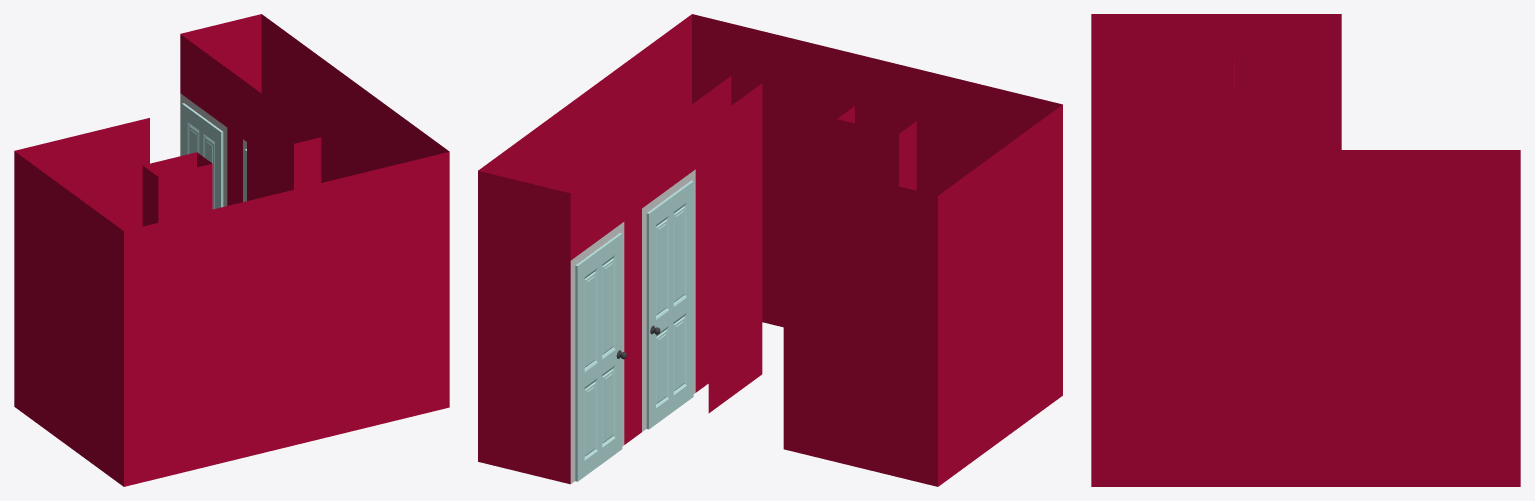
The model's file is main hallway-all fixed.fbx.
The picture shows the model from 3 angles, left to right: view 1: azimuth 30°, elevation 25°; view 2: azimuth 150°, elevation 25°; view 3: azimuth 270°, elevation 25°; orthographic projection. The views are drawn at different scales.
Visible parts, largest first — view 1: pCube2, pCube3, pCube1, pCube4, pCube72_over_door_panel1 (×2), pCube5, pCube12, pCube11, door, pCube6, pCube10, pCube14 (+3 smaller); view 2: pCube4, pCube3, pCube2, pCube5, door (×2), pCube12, pCube1, pCube72_over_door_panel1 (×2), pCube6, pCube9, trim (×2), pCube15 (+2 smaller); view 3: pCube1, pCube3, pCube72_over_door_panel1 (×2), pCube9, pCube6, pCube13, pCube12, pCube14.
Part boxes in pixels (x1,y1,x2,y2): pCube2: (124, 152, 449, 486); pCube3: (14, 151, 123, 486); pCube1: (261, 14, 449, 182); pCube4: (14, 118, 149, 230); pCube72_over_door_panel1 (×2): (180, 34, 289, 141); pCube5: (180, 14, 261, 93); pCube12: (247, 109, 293, 200); pCube11: (158, 163, 212, 222); door: (182, 103, 223, 209); pCube6: (227, 68, 242, 205); pCube10: (294, 137, 321, 189); pCube14: (142, 166, 158, 226); pCube4: (783, 158, 937, 486); pCube3: (938, 104, 1062, 486); pCube2: (692, 14, 1062, 327); pCube5: (478, 171, 570, 484); door (×2): (575, 180, 693, 481); pCube12: (708, 83, 762, 413); pCube1: (478, 14, 691, 193); pCube72_over_door_panel1 (×2): (570, 102, 695, 260); pCube6: (624, 141, 641, 444); pCube9: (695, 76, 731, 392); trim (×2): (570, 169, 695, 483); pCube15: (837, 119, 898, 186); pCube1: (1091, 195, 1520, 486); pCube3: (1091, 14, 1341, 195); pCube72_over_door_panel1 (×2): (1270, 150, 1520, 195); pCube9: (1198, 150, 1270, 195); pCube6: (1377, 150, 1413, 195); pCube13: (1198, 89, 1234, 134); pCube12: (1198, 135, 1305, 149); pCube14: (1198, 59, 1234, 89).
Bounding box in the file's own units: 3.66 × 2.74 × 3.66.
